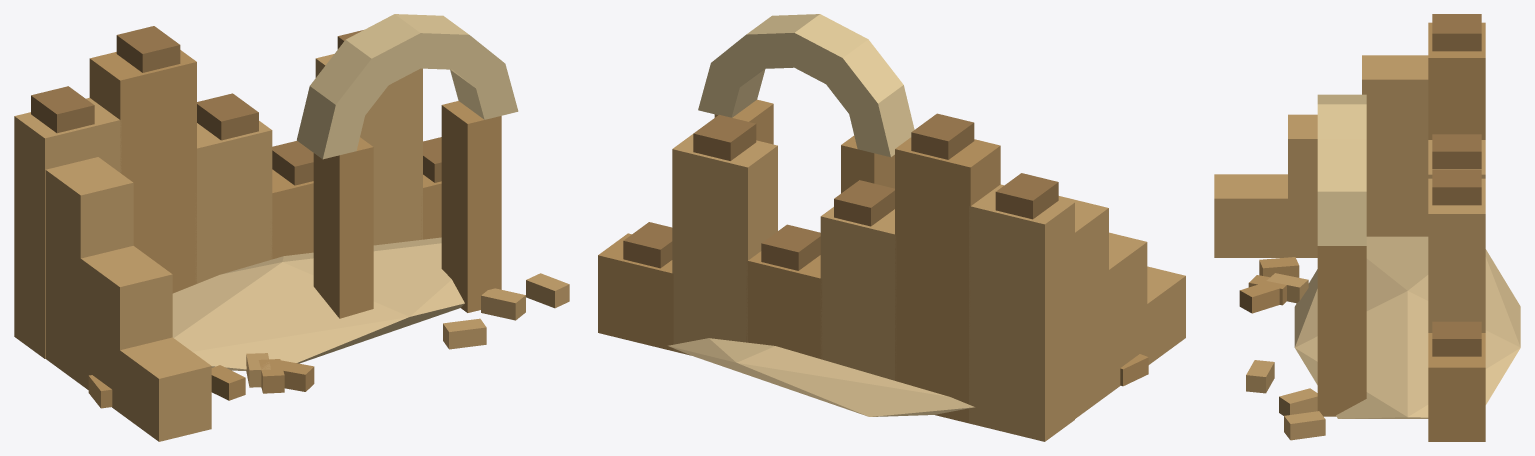
Rendered from desert_ruin.glb.
3 renders of one model, left to right at view 1: azimuth 30°, elevation 25°; view 2: azimuth 150°, elevation 25°; view 3: azimuth 270°, elevation 25°, orthographic. The views are drawn at different scales.
Visible parts, largest first — view 1: desert_ruin; view 2: desert_ruin; view 3: desert_ruin.
Part boxes in pixels (x1,y1,x2,y2): desert_ruin: (14,14,569,441); desert_ruin: (598,14,1185,441); desert_ruin: (1214,14,1520,441).
Size of the model in its own units: 6.14 by 3.7 by 3.74.
